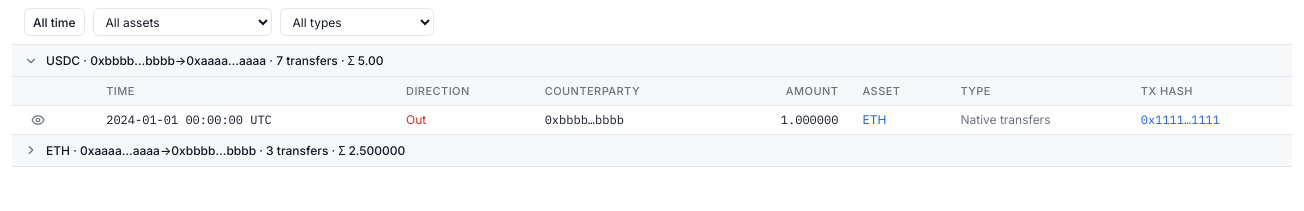
it: pair selection renders collapsible groups with header totals
Click the button "ETH · 0xaaaa…aaaa→0xbbbb…bbbb · 3 transfers · Σ 2.500000": [226, 150] box [12,134,1292,166]
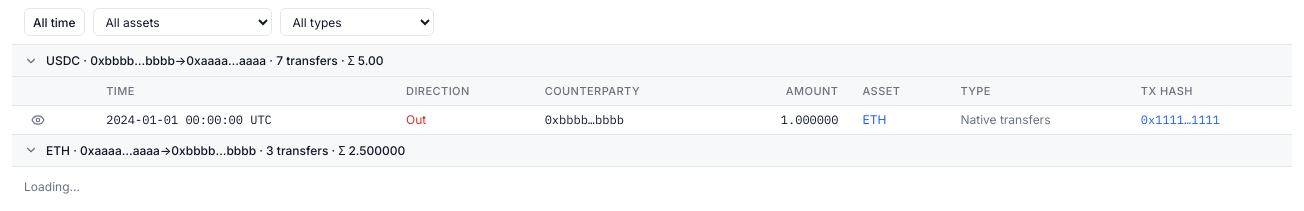
Click the button "USDC · 0xbbbb…bbbb→0xaaaa…aaaa · 7 transfers · Σ 5.00": [215, 60] box [12,45,1292,77]
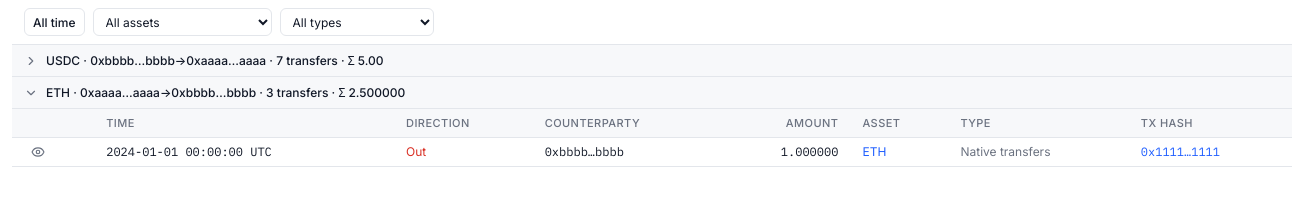
Expected: the button "USDC · 0xbbbb…bbbb→0xaaaa…aaaa · 7 transfers · Σ 5.00" is collapsed, [12,45,1292,77]
